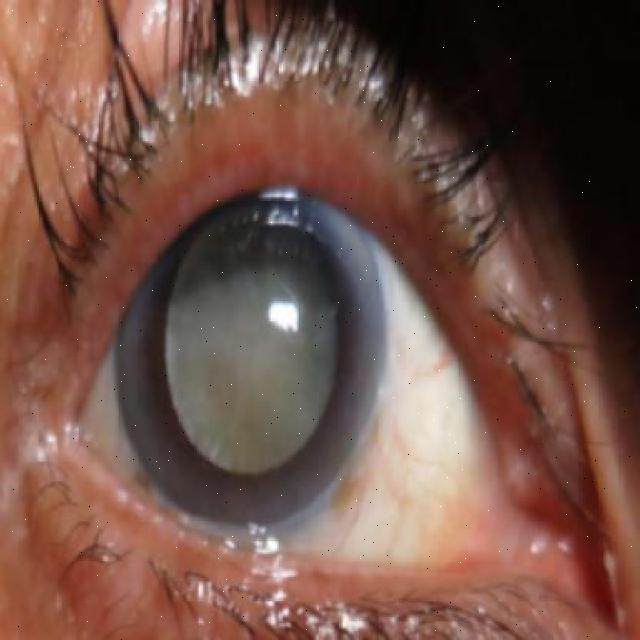Cataract: (101, 162, 388, 529)
